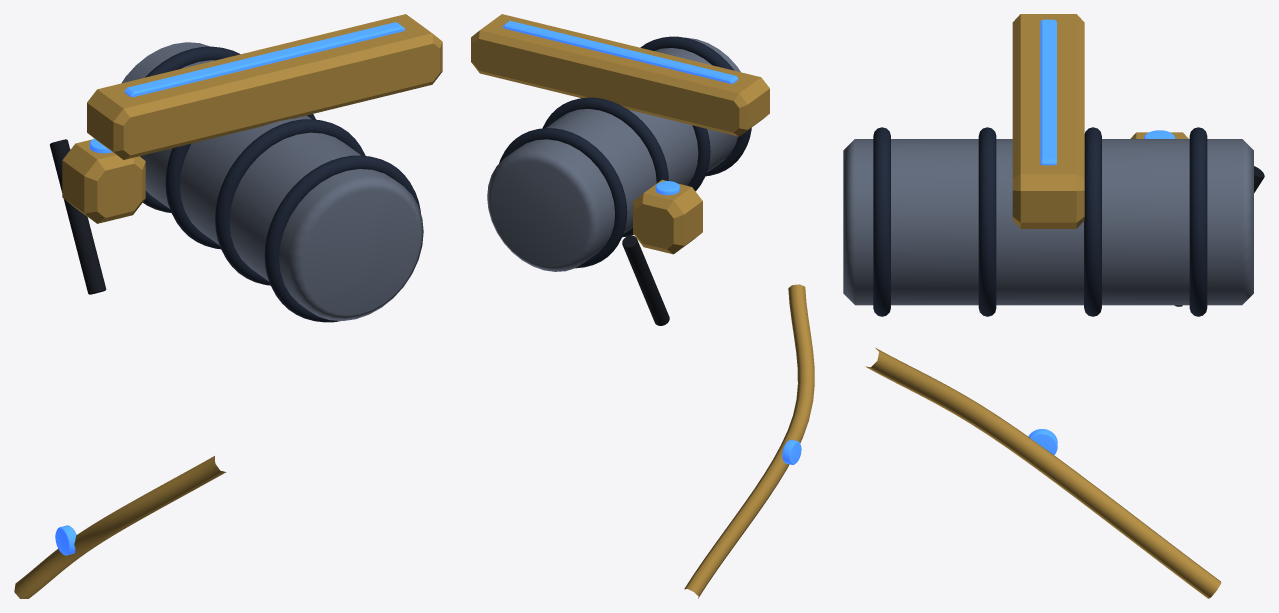
File: tower_lance_rate_s4.glb
3 views of the same model, side by side, from view 1: azimuth 30°, elevation 25°; view 2: azimuth 150°, elevation 25°; view 3: azimuth 270°, elevation 25° (orthographic). The views are drawn at different scales.
Visible parts, largest first — view 1: lance_capacitor_c, lance_bus_bar_heavy, lance_bus_tap, lance_coolant_line, lance_cap_rib_c0, lance_cap_rib_c1, lance_bus_bar_glow, lance_bus_tap_line, lance_cap_rib_c2, lance_cap_rib_c3; view 2: lance_capacitor_c, lance_bus_bar_heavy, lance_coolant_line, lance_bus_tap, lance_cap_rib_c3, lance_bus_bar_glow, lance_cap_rib_c2, lance_cap_rib_c0, lance_bus_tap_line, lance_cap_rib_c1; view 3: lance_capacitor_c, lance_bus_bar_heavy, lance_coolant_line, lance_cap_rib_c1, lance_cap_rib_c3, lance_cap_rib_c2, lance_cap_rib_c0, lance_bus_bar_glow.
Part boxes in pixels (x1,y1,x2,y2): lance_capacitor_c: (121, 42, 423, 320); lance_bus_bar_heavy: (87, 14, 442, 159); lance_bus_tap: (62, 139, 145, 223); lance_coolant_line: (14, 456, 226, 598); lance_cap_rib_c0: (264, 155, 420, 322); lance_cap_rib_c1: (215, 119, 365, 285); lance_bus_bar_glow: (124, 22, 404, 97); lance_bus_tap_line: (50, 139, 106, 294); lance_cap_rib_c2: (165, 114, 315, 249); lance_cap_rib_c3: (143, 46, 240, 212); lance_capacitor_c: (487, 37, 740, 271); lance_bus_bar_heavy: (471, 14, 769, 136); lance_coolant_line: (684, 284, 814, 598); lance_bus_tap: (633, 179, 702, 254); lance_cap_rib_c3: (499, 128, 627, 268); lance_bus_bar_glow: (503, 20, 738, 83); lance_cap_rib_c2: (542, 97, 668, 237); lance_cap_rib_c0: (640, 36, 751, 176); lance_bus_tap_line: (622, 235, 669, 325); lance_cap_rib_c1: (687, 125, 710, 191); lance_capacitor_c: (843, 139, 1253, 305); lance_bus_bar_heavy: (1012, 14, 1084, 228); lance_coolant_line: (865, 348, 1221, 598); lance_cap_rib_c1: (978, 127, 996, 316); lance_cap_rib_c3: (1189, 127, 1207, 316); lance_cap_rib_c2: (1084, 127, 1101, 316); lance_cap_rib_c0: (873, 127, 890, 316); lance_bus_bar_glow: (1040, 19, 1056, 165).
Bounding box in the file's own units: 0.82 × 1.18 × 0.7593.
